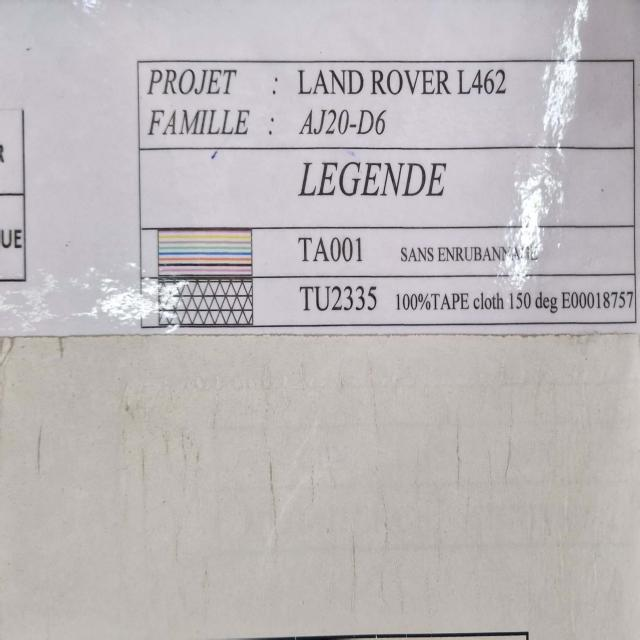Etiquette_Famille_AJ20_D-: (119, 38, 640, 341)
